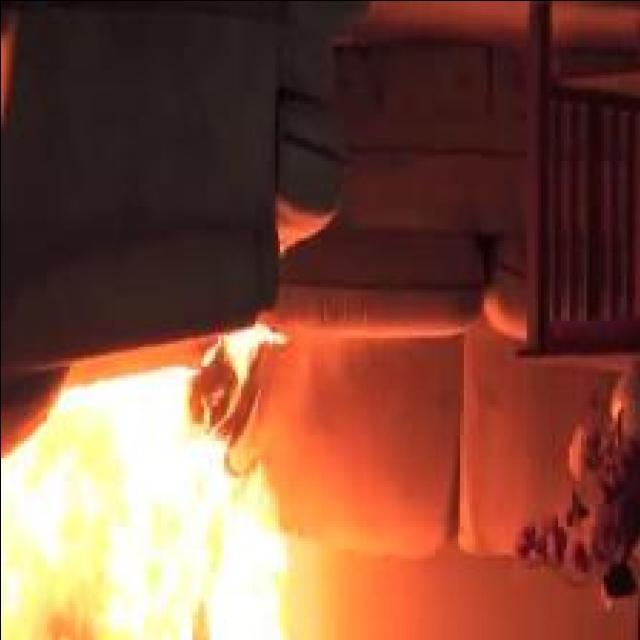Fire: (1, 366, 289, 640), (202, 322, 284, 384)
